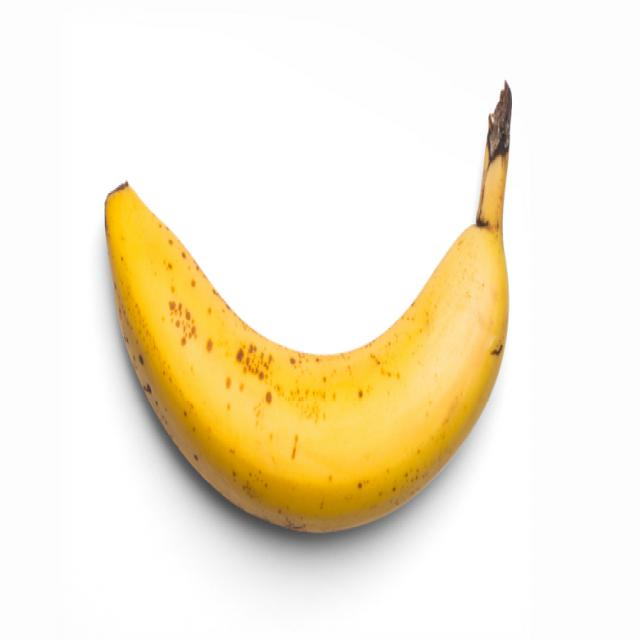banana: (90, 83, 536, 543)
